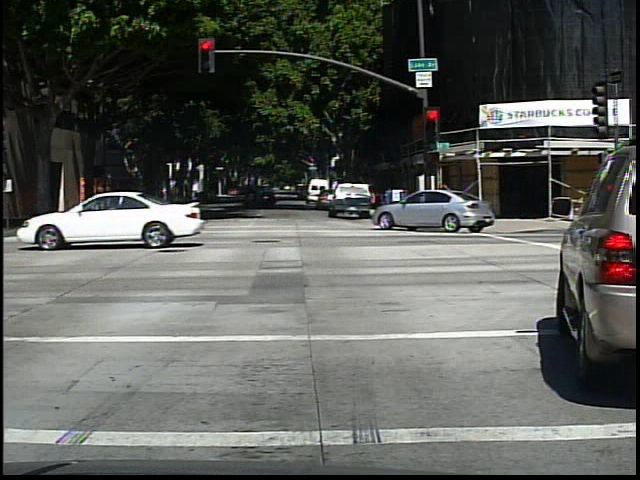person: (89, 186, 106, 221)
